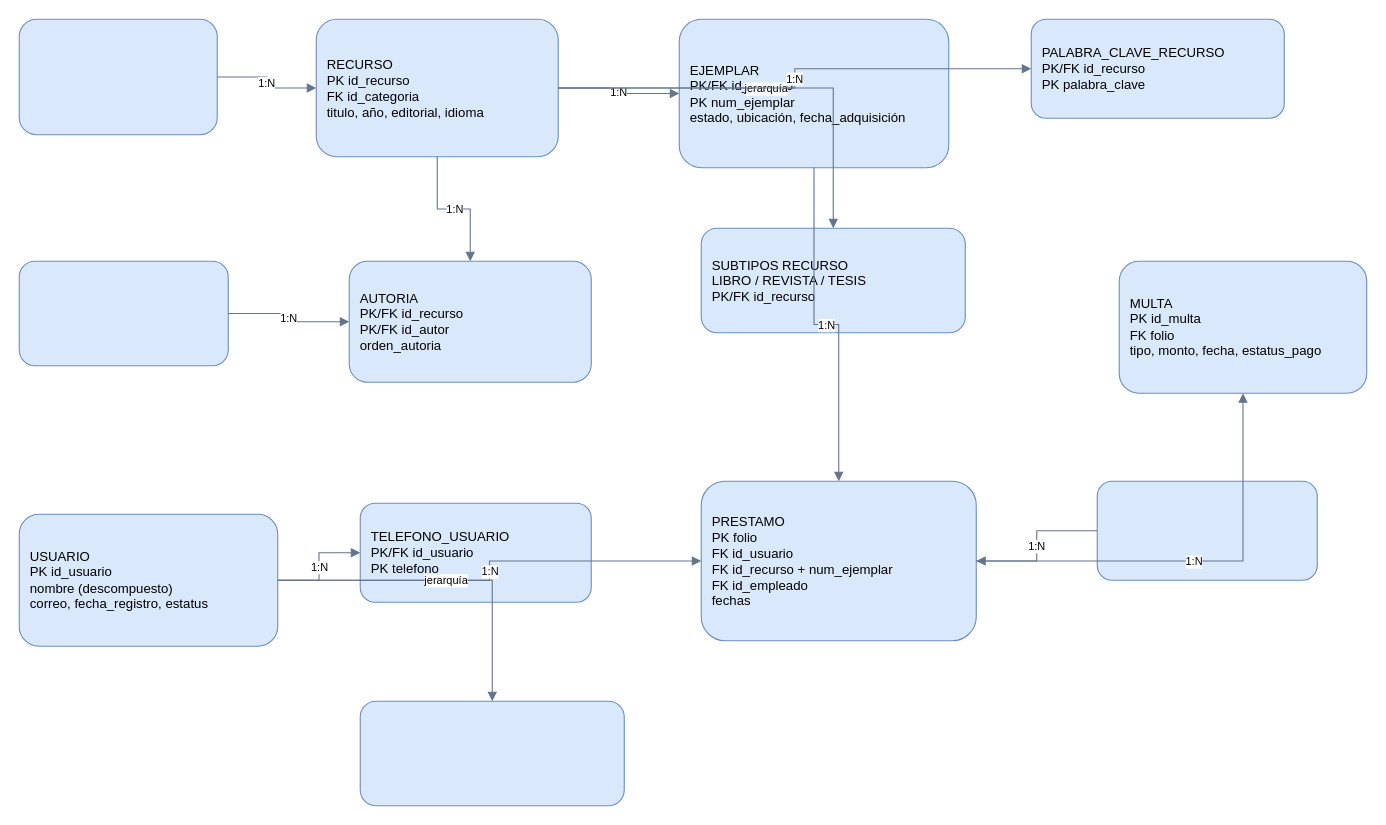
Some shapes in this 1386 by 825 pixel diagram are drawn without their labels. Each missing label, with the centre of its shape:
"AUTOR PK id_autor nombre, nacionalidad" belongs at pixel 123 313.
"BIBLIOTECARIO PK id_empleado nombre, turno" belongs at pixel 1206 530.
"CATEGORIA PK id_categoria nombre descripcion" belongs at pixel 117 76.
"SUBTIPOS USUARIO ESTUDIANTE / DOCENTE / EXTERNO PK/FK id_usuario" belongs at pixel 491 753.
